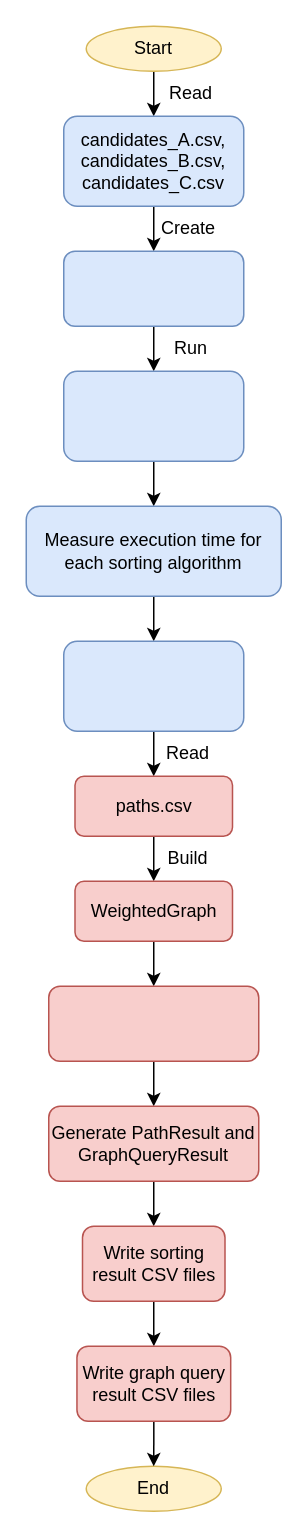
Image size: 308x1538. Some labels were removed from this diagram. Here are the shapes that lost their labels. From the top down, the centre of each, then its label:
At point (153, 288): "CandidateLocation objects".
At point (153, 415): "Bubble Sort, Quick Sort, Merge Sort".
At point (153, 685): "Select Top 10 candidate locations from each dataset".
At point (153, 1023): "Run Dijkstra algorithm for 4 required path queries".
